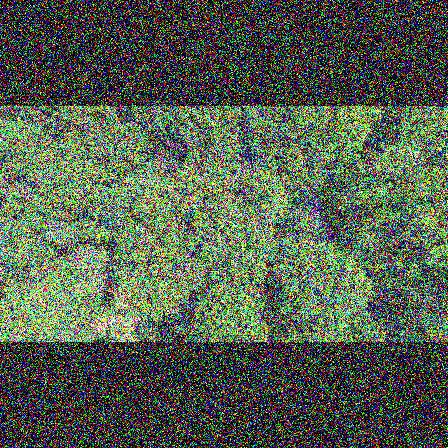Dead: (0, 174, 38, 202), (147, 150, 179, 176)
